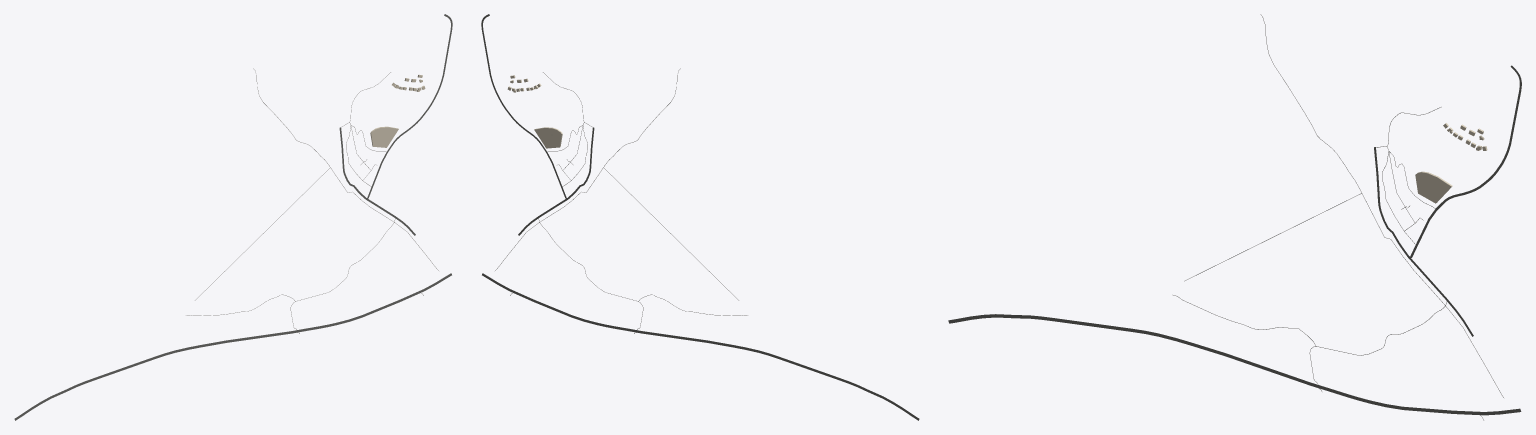
Rendered from historic-palestine-07_24_3489_3181.glb.
3 views of the same model, side by side, from view 1: azimuth 30°, elevation 25°; view 2: azimuth 150°, elevation 25°; view 3: azimuth 330°, elevation 25° (orthographic). The views are drawn at different scales.
Parts seen in each view (by area): view 1: Road 3, Building_, Road 4128; view 2: Road 3, Building_, Road 4128; view 3: Road 3, Building_, Road 4128, Road 411.
Part boxes in pixels (bbox=[...]): Road 3: bbox=[14, 273, 451, 420]; Building_: bbox=[370, 126, 398, 147]; Road 4128: bbox=[366, 14, 452, 199]; Road 3: bbox=[482, 273, 919, 420]; Building_: bbox=[534, 127, 562, 148]; Road 4128: bbox=[481, 14, 567, 199]; Road 3: bbox=[948, 314, 1521, 415]; Building_: bbox=[1415, 171, 1452, 203]; Road 4128: bbox=[1409, 65, 1521, 257]; Road 411: bbox=[1374, 147, 1473, 336].
Size of the model in its own units: 2183 by 1439 by 8.7.
